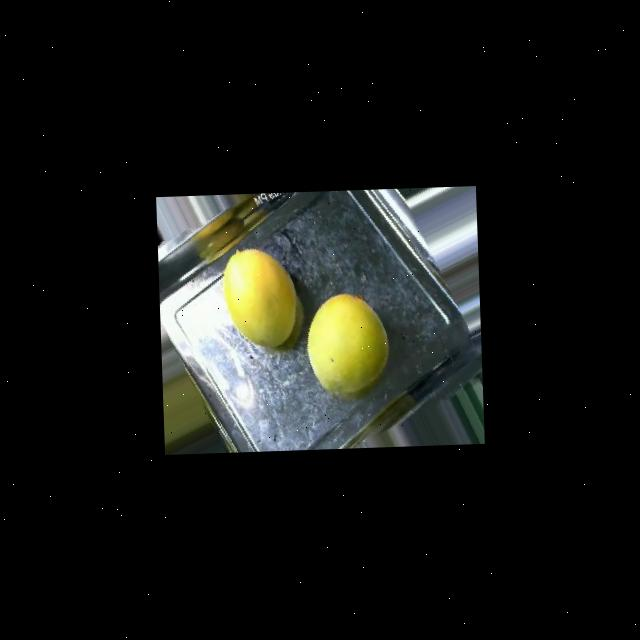Mango: (305, 290, 391, 398), (222, 245, 300, 348)
